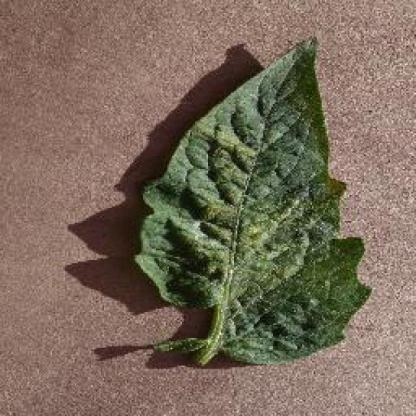Tomato_Spider_Mites: (138, 36, 369, 358)
